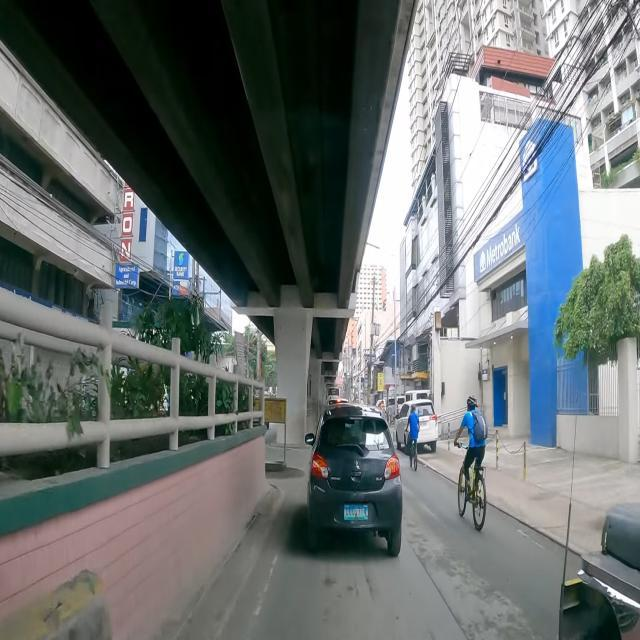bike: (454, 396, 487, 530), (406, 404, 420, 471)
bus: (328, 386, 340, 398)
car: (306, 404, 402, 556), (396, 400, 438, 452)
jeepney: (558, 416, 640, 640)
